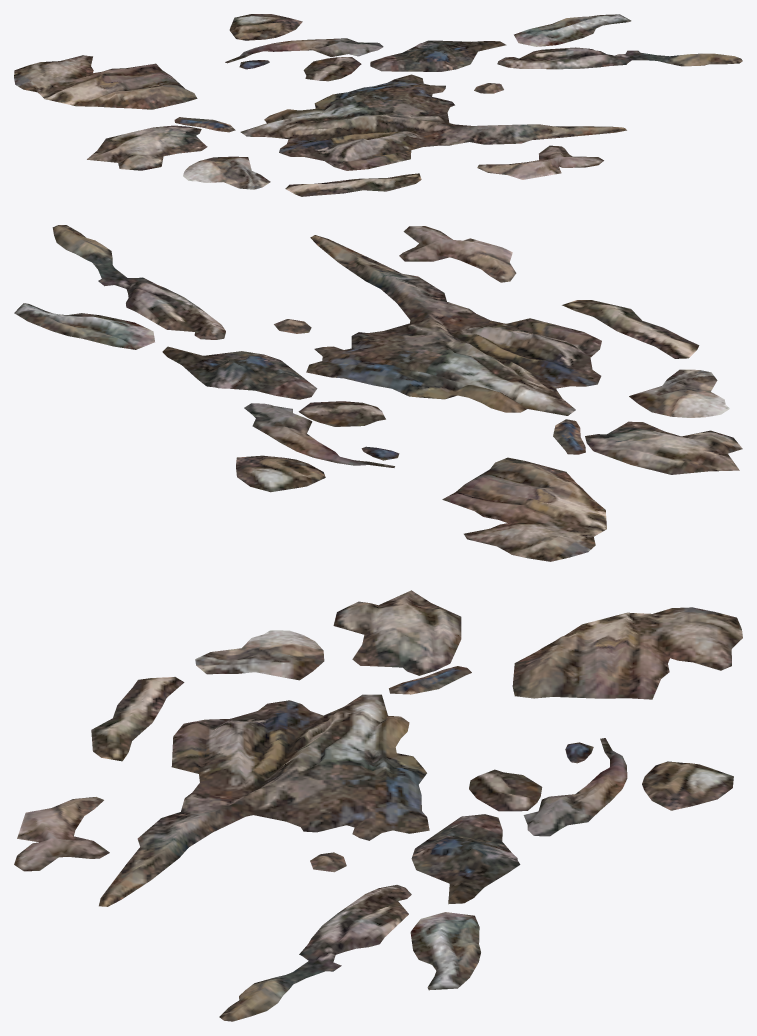
File: sm20_021_sewagegroundgarbage01a.fbx
The picture shows the model from 3 angles, top to bottom: view 1: azimuth 30°, elevation 25°; view 2: azimuth 150°, elevation 25°; view 3: azimuth 270°, elevation 25°; orthographic projection. The views are drawn at different scales.
Visible parts, largest first — view 1: LOD_1_Group_0_Sub_1__sm20_021_SewageGroundGarbage01A_A_Mat__; view 2: LOD_1_Group_0_Sub_1__sm20_021_SewageGroundGarbage01A_A_Mat__; view 3: LOD_1_Group_0_Sub_1__sm20_021_SewageGroundGarbage01A_A_Mat__.
Part boxes in pixels (<box>): LOD_1_Group_0_Sub_1__sm20_021_SewageGroundGarbage01A_A_Mat__: <box>14,14,742,196</box>; LOD_1_Group_0_Sub_1__sm20_021_SewageGroundGarbage01A_A_Mat__: <box>14,225,742,561</box>; LOD_1_Group_0_Sub_1__sm20_021_SewageGroundGarbage01A_A_Mat__: <box>14,590,742,1021</box>.
Size of the model in its own units: 2.5 by 0.0417 by 1.79.
